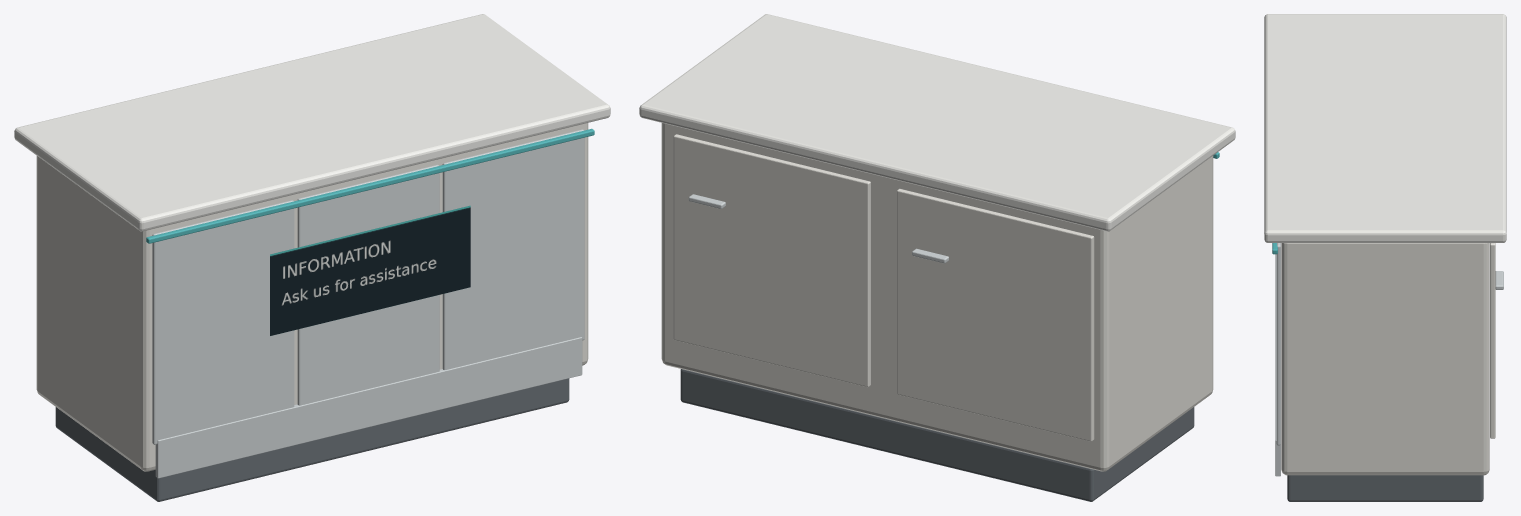
Rendered from information-desk.glb.
3 views of the same model, side by side, from view 1: azimuth 30°, elevation 25°; view 2: azimuth 150°, elevation 25°; view 3: azimuth 270°, elevation 25° (orthographic). The views are drawn at different scales.
Visible parts, largest first — view 1: CounterTop, Cabinet, FrontPanel-0.52, FrontPanel0.52, FrontPanel0, KickPlate, InformationLabel, Plinth, AccentRail; view 2: CounterTop, Cabinet, CabinetDoor1, CabinetDoor0, Plinth; view 3: CounterTop, Cabinet, Plinth, CabinetDoor1, FrontPanel0.52, KickPlate.
Boxes of the visible parts, x1,y1,x2,y2 form: CounterTop: (14,14,610,231); Cabinet: (36,123,588,471); FrontPanel-0.52: (152,200,294,444); FrontPanel0.52: (442,129,584,369); FrontPanel0: (297,164,439,405); KickPlate: (155,337,582,478); InformationLabel: (270,205,470,335); Plinth: (55,378,569,501); AccentRail: (146,128,594,243); CounterTop: (639,14,1235,231); Cabinet: (661,123,1213,471); CabinetDoor1: (673,134,870,387); CabinetDoor0: (897,188,1094,441); Plinth: (680,369,1194,501); CounterTop: (1264,14,1506,242); Cabinet: (1281,243,1489,475); Plinth: (1287,475,1483,501); CabinetDoor1: (1490,243,1495,438); FrontPanel0.52: (1276,243,1280,445); KickPlate: (1275,254,1280,476).
Bounding box in the file's own units: 1.69 × 1.02 × 0.79.
6 materials, 1 textured.
